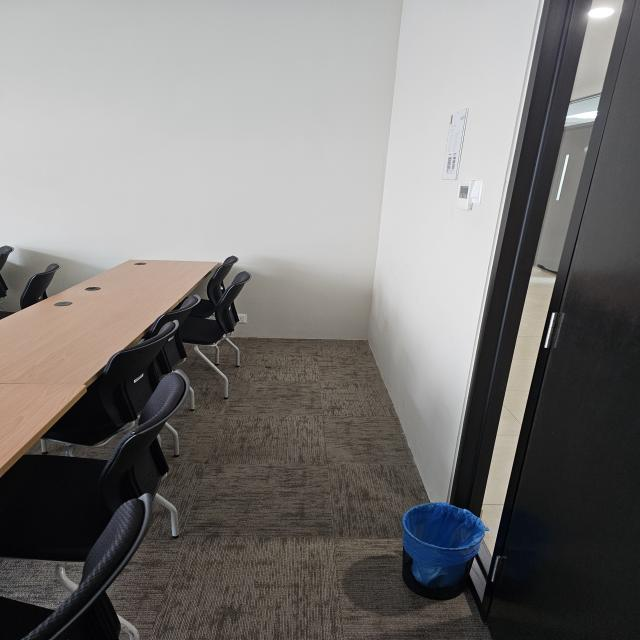obstacle: (1, 256, 224, 476), (395, 499, 490, 602)
